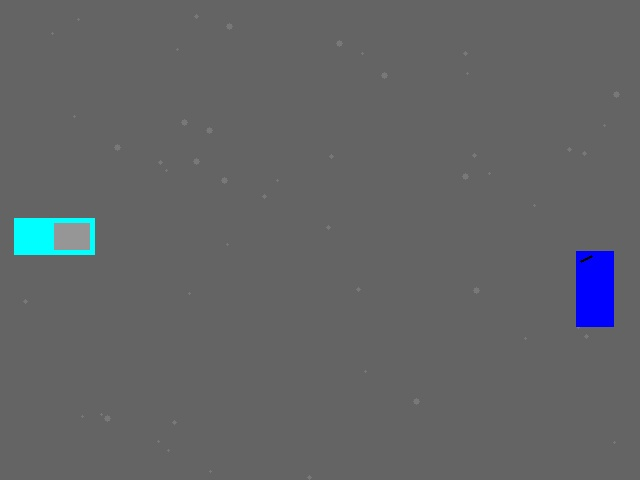motorcycle: (576, 251, 613, 326)
truck: (14, 218, 94, 254)
